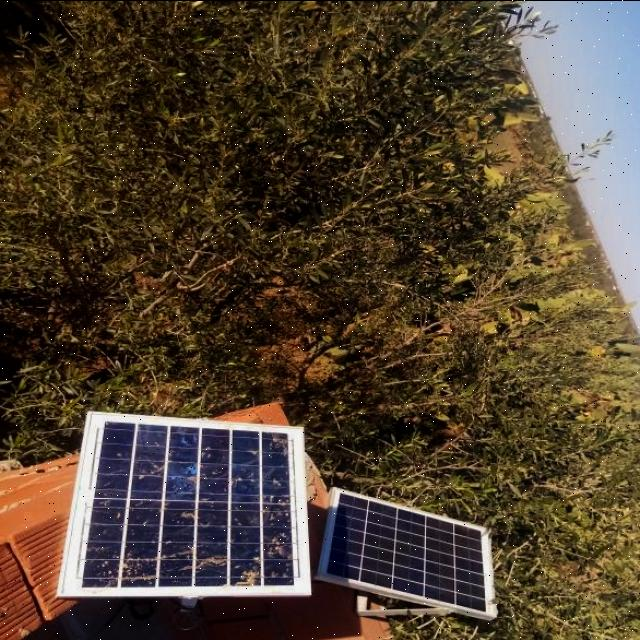Normal Solar Panel: (318, 489, 492, 617)
